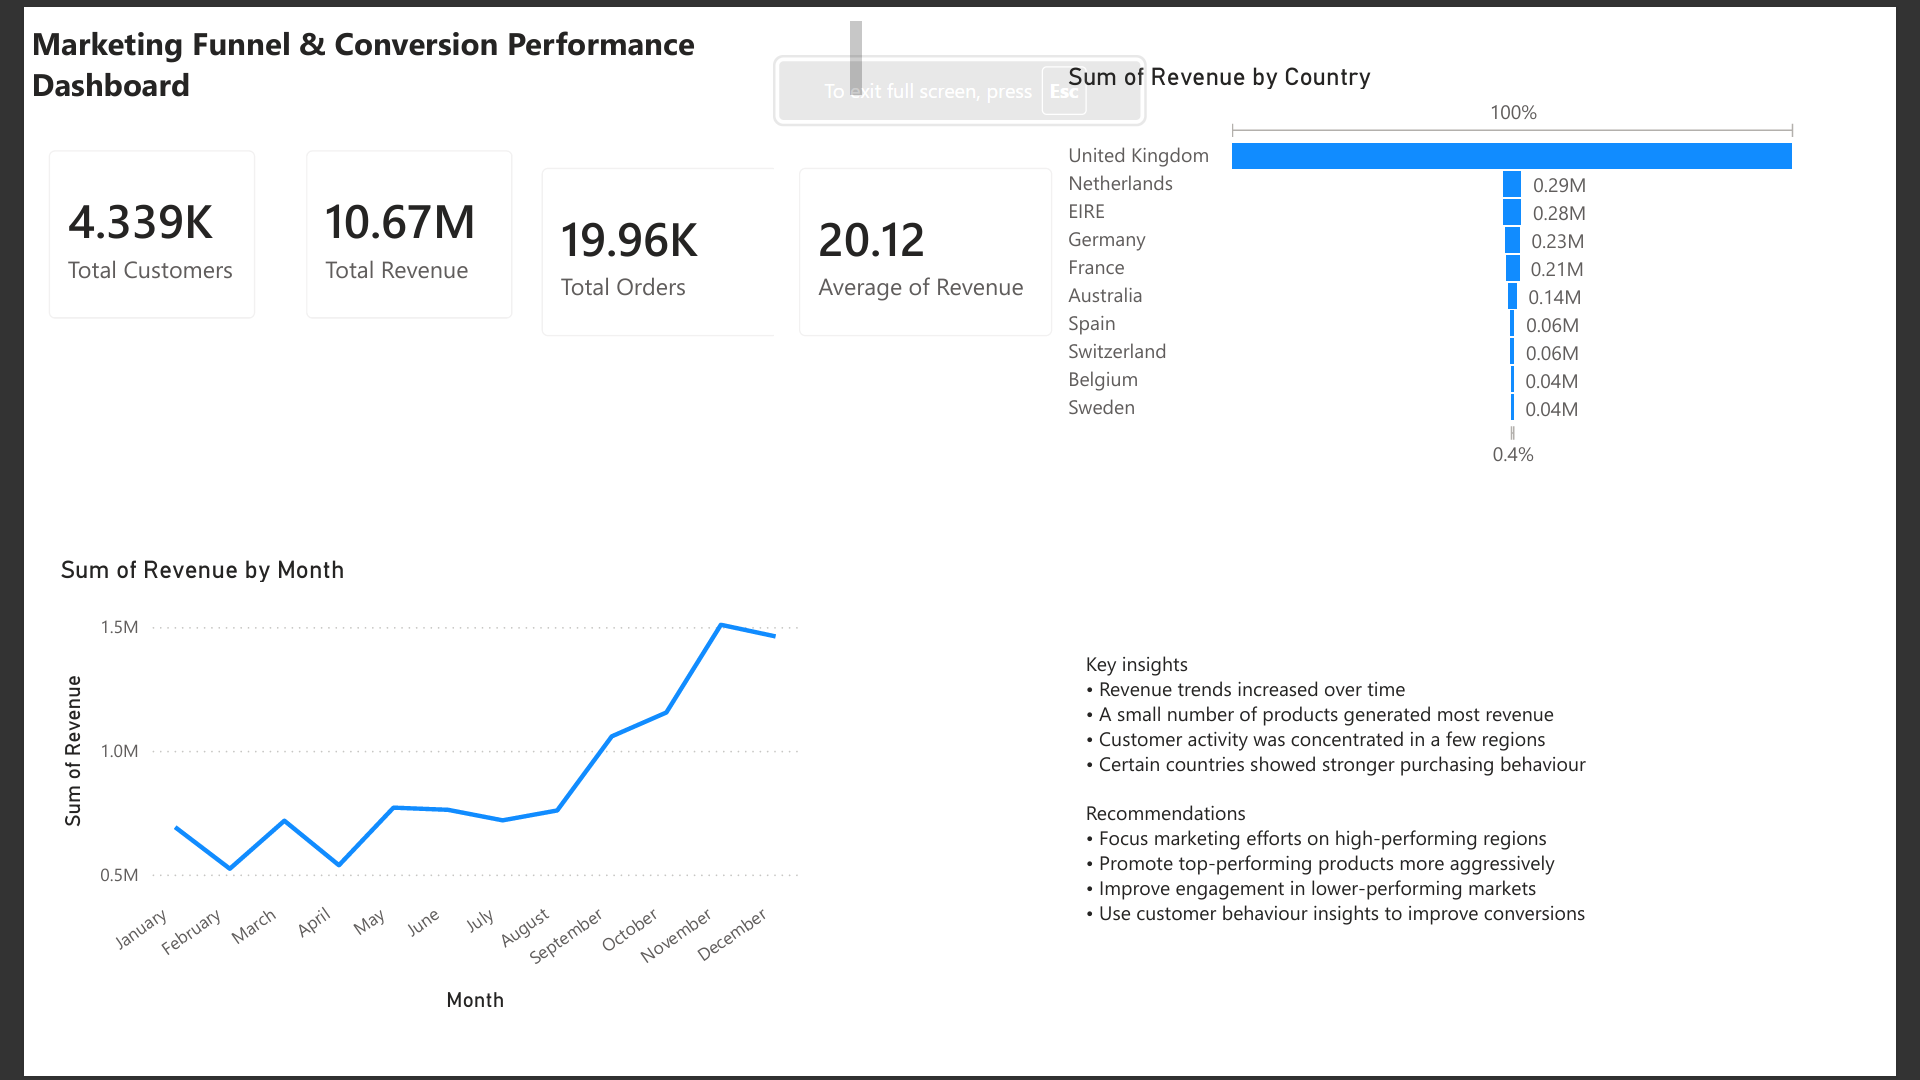

This screenshot's page, from the dashboard's own definition file:
{"tool":"powerbi","page":{"name":"Page 1","canvas":[1280,720],"ordinal":0},"visuals":[{"type":"textbox","box":[0,0,578,63.4],"z":1001},{"type":"cardVisual","fields":{"Data":["Count(online_retail.CustomerID)"]},"box":[0,76.4,175.9,149.9],"z":1002},{"type":"cardVisual","fields":{"Data":["Sum(online_retail.Revenue)"]},"box":[175.9,76.4,175.9,149.9],"z":1003},{"type":"cardVisual","fields":{"Data":["Count(online_retail.InvoiceNo)"]},"box":[337.3,87.9,196,149.9],"z":1004},{"type":"cardVisual","fields":{"Data":["Avg(online_retail.Revenue)"]},"box":[513.2,87.9,207.6,149.9],"z":1005},{"type":"funnel","fields":{"Category":["online_retail.Country"],"Y":["Sum(online_retail.Revenue)"]},"box":[709.2,31.7,510.3,282.5],"z":1006},{"type":"lineChart","fields":{"Category":["online_retail.InvoiceDate.Variation.Date Hierarchy.Year","online_retail.InvoiceDate.Variation.Date Hierarchy.Month"],"Y":["Sum(online_retail.Revenue)"]},"box":[20,368.8,513.8,317.5],"z":1007},{"type":"textbox","box":[721.2,430,441.2,280],"z":1008}]}

Visuals, with their boxes in screenshot pixels (x1, y1, x2, y2), scaled from the page's 1280x720 canvas onto the 1920x1080 screenshot:
textbox: {"x1": 0, "y1": 0, "x2": 867, "y2": 95}
cardVisual - Count(online_retail.CustomerID): {"x1": 0, "y1": 115, "x2": 264, "y2": 339}
cardVisual - Sum(online_retail.Revenue): {"x1": 264, "y1": 115, "x2": 528, "y2": 339}
cardVisual - Count(online_retail.InvoiceNo): {"x1": 506, "y1": 132, "x2": 800, "y2": 357}
cardVisual - Avg(online_retail.Revenue): {"x1": 770, "y1": 132, "x2": 1081, "y2": 357}
funnel - online_retail.Country x Sum(online_retail.Revenue): {"x1": 1064, "y1": 48, "x2": 1829, "y2": 471}
lineChart - online_retail.InvoiceDate.Variation.Date Hierarchy.Year x online_retail.InvoiceDate.Variation.Date Hierarchy.Month: {"x1": 30, "y1": 553, "x2": 801, "y2": 1029}
textbox: {"x1": 1082, "y1": 645, "x2": 1744, "y2": 1065}
